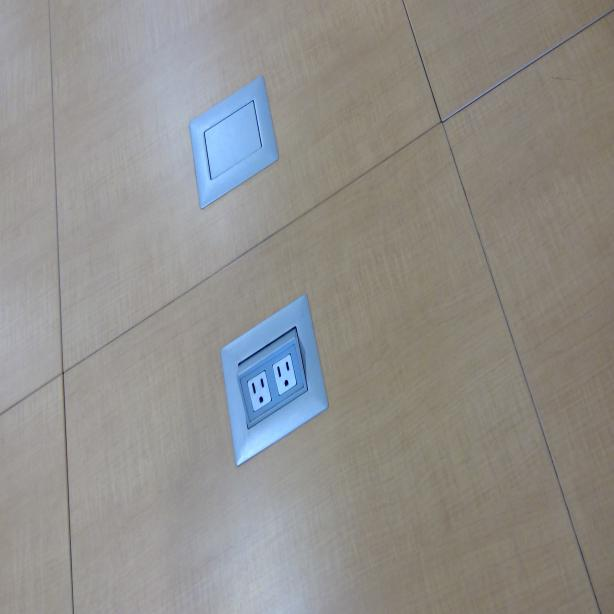typeb: (245, 373, 273, 415), (273, 354, 296, 396)
